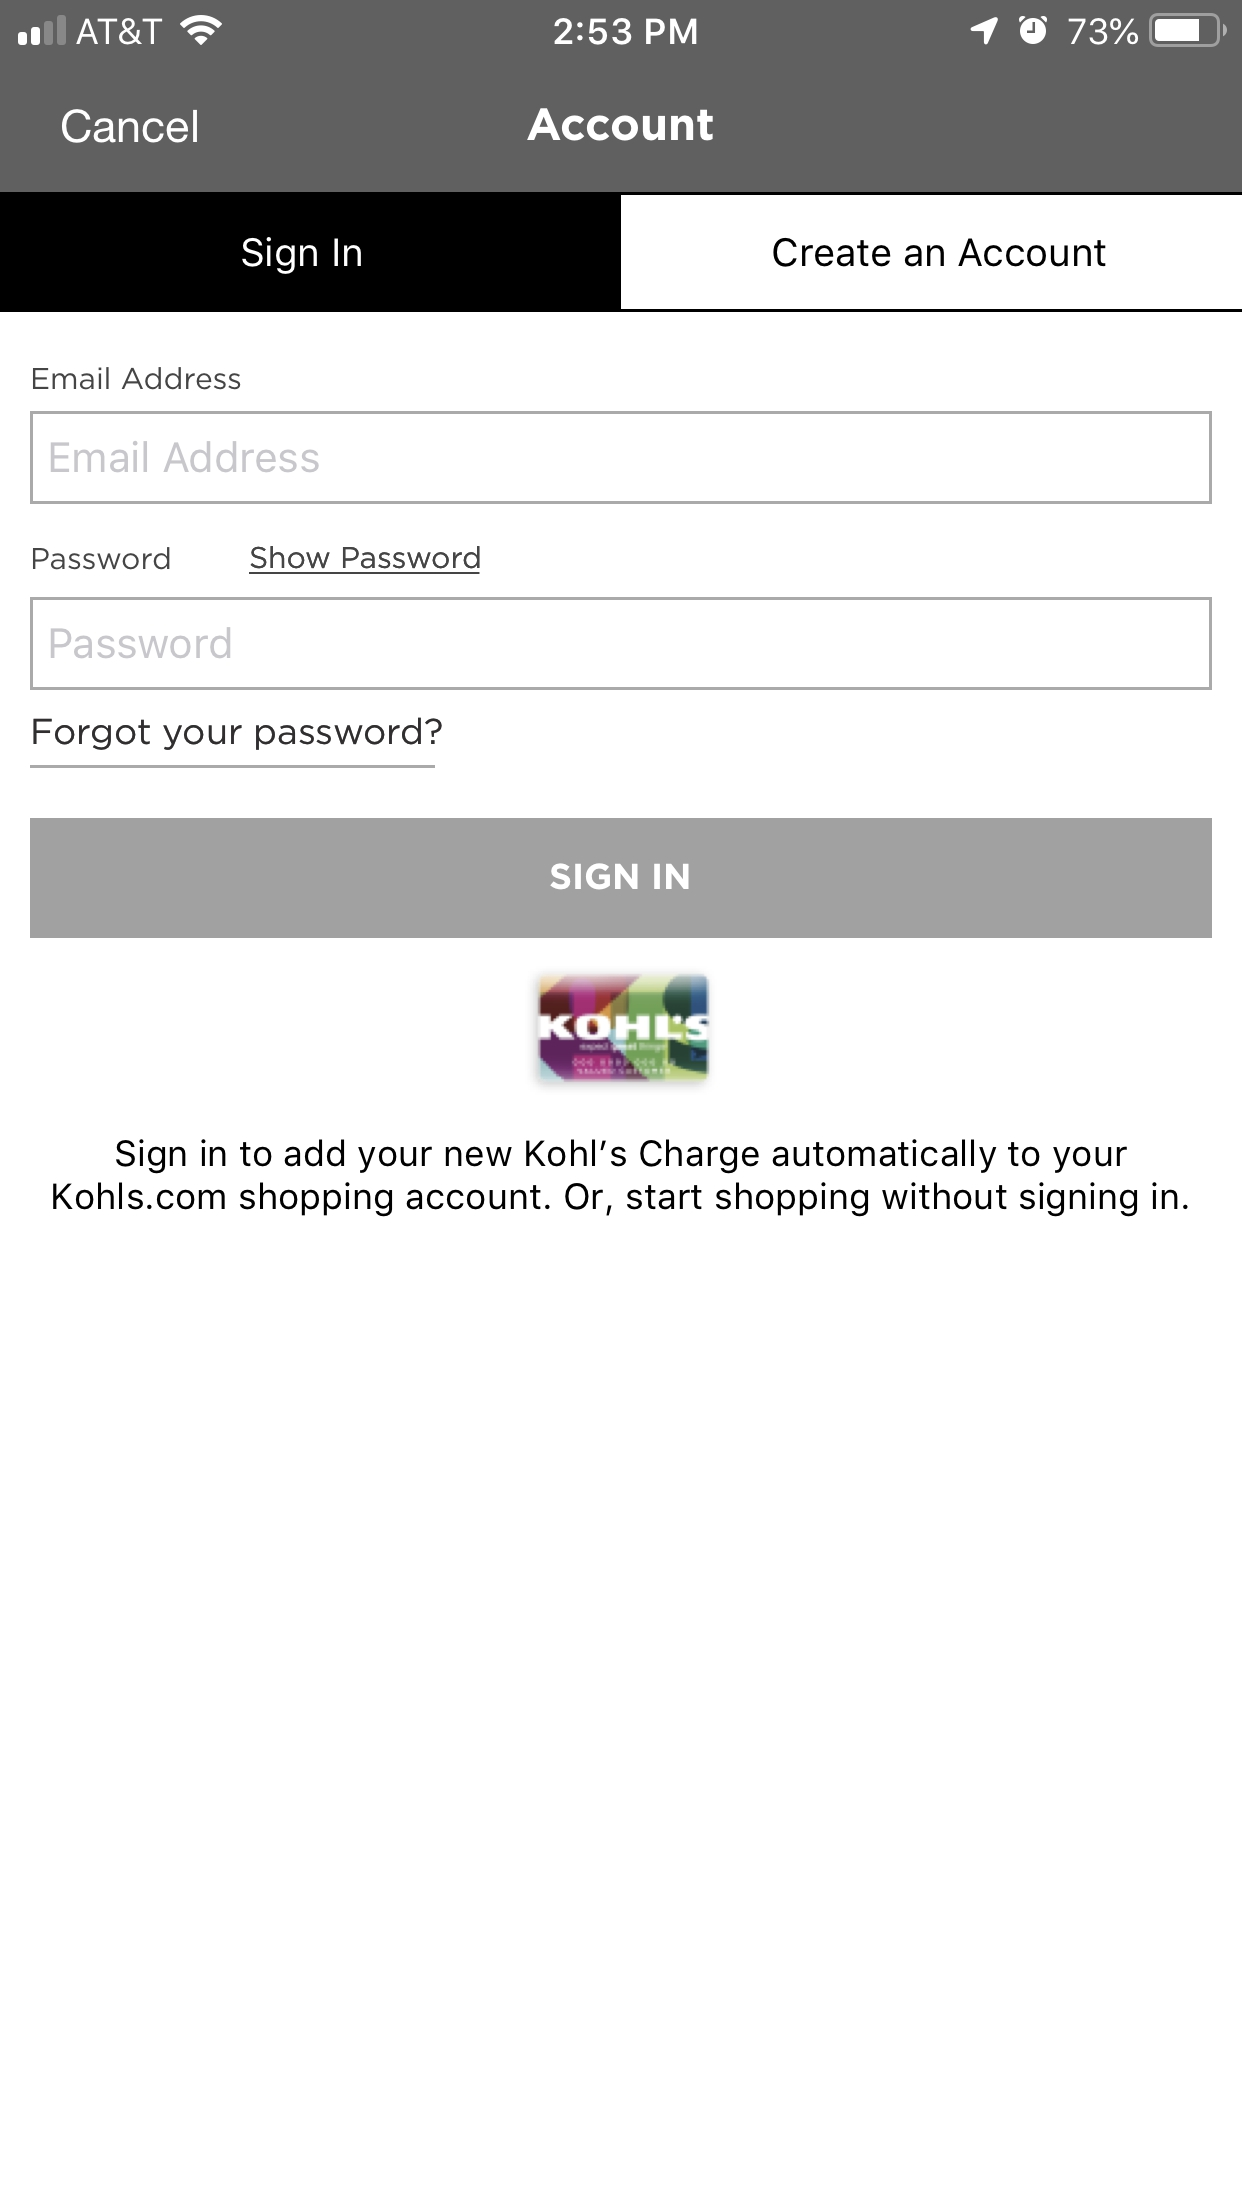EditText: (30, 597, 1212, 692), (30, 412, 1213, 505)
Image: (538, 974, 710, 1081)
Text: (53, 1137, 1187, 1218), (30, 717, 443, 769), (52, 441, 320, 475), (528, 108, 714, 143), (250, 547, 481, 575), (52, 628, 232, 660), (62, 109, 199, 146), (33, 369, 243, 391), (33, 547, 171, 572)
TextButton: (30, 817, 1213, 939), (622, 193, 1242, 312), (2, 193, 622, 312)
UpperTaskBar: (2, 2, 1242, 49)
